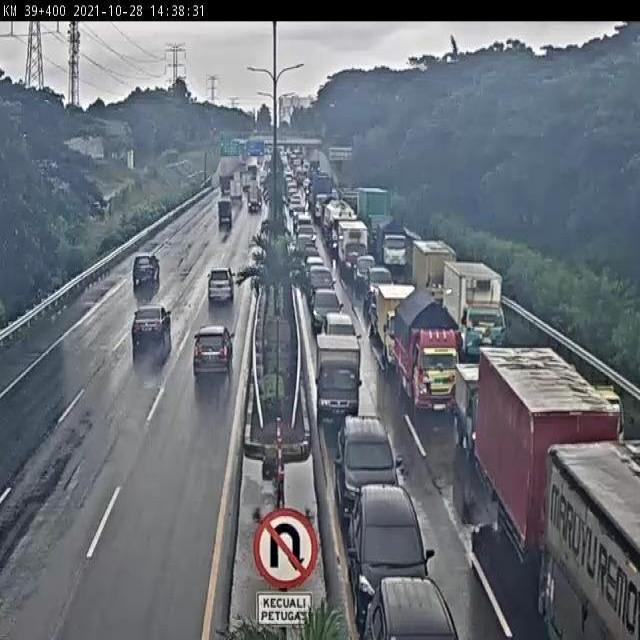big truck: (473, 348, 622, 583), (379, 204, 410, 264)
car: (555, 446, 640, 640), (353, 487, 427, 581), (370, 574, 459, 640), (337, 412, 401, 492), (116, 313, 169, 375), (191, 326, 237, 382), (203, 262, 237, 318), (308, 285, 346, 324), (349, 253, 380, 287), (365, 268, 399, 299), (324, 305, 353, 336), (128, 254, 160, 282), (349, 432, 352, 436)
small truck: (391, 291, 458, 408), (445, 263, 510, 349), (315, 331, 359, 420), (318, 335, 365, 416), (372, 282, 418, 354), (409, 237, 457, 304), (447, 360, 478, 449), (333, 216, 367, 264)
